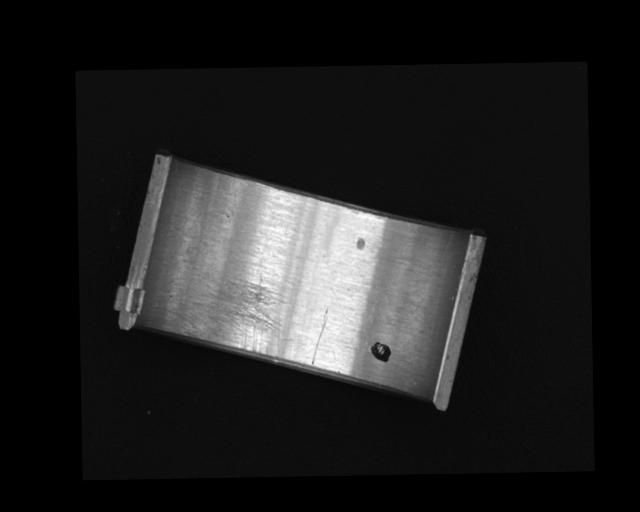blot: (369, 342, 391, 363)
bruise: (356, 236, 365, 251)
nick: (410, 230, 454, 313), (310, 307, 331, 365)
scratch: (180, 275, 285, 360)
